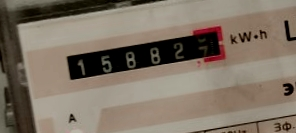1: (73, 55, 87, 76)
2: (170, 39, 185, 59)
5: (97, 51, 112, 73)
7: (196, 42, 209, 58)
8: (147, 43, 162, 66), (122, 47, 137, 69)
screen: (55, 18, 235, 89)
